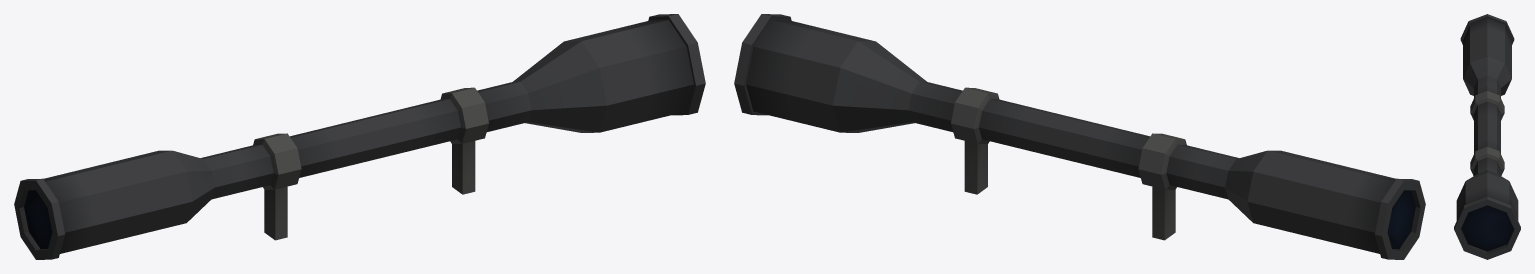
The model's file is q-acc-scope-1.glb.
3 renders of one model, left to right at view 1: azimuth 30°, elevation 25°; view 2: azimuth 150°, elevation 25°; view 3: azimuth 270°, elevation 25°, orthographic. The views are drawn at different scales.
Visible parts, largest first — view 1: scope; view 2: scope; view 3: scope.
Boxes of the visible parts, x1,y1,x2,y2 form: scope: (14,14,705,259); scope: (734,14,1425,259); scope: (1454,14,1520,259).
Bounding box in the file's own units: 0.2568 × 0.0469 × 0.0378.
